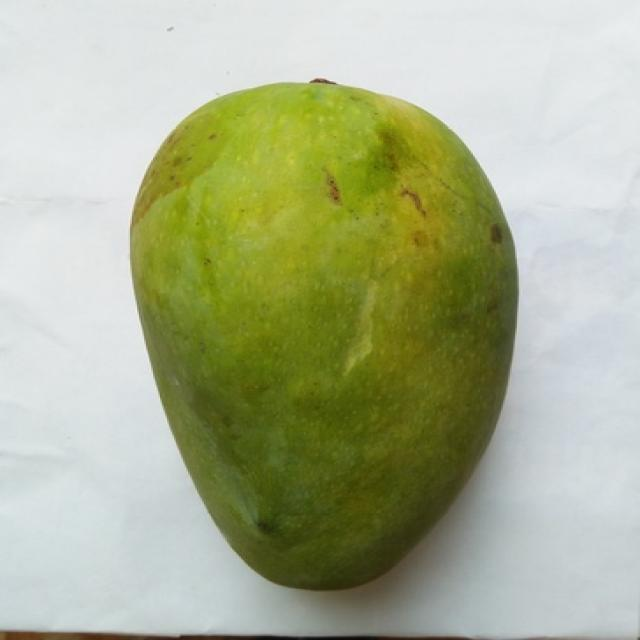Mango: (130, 81, 515, 589)
